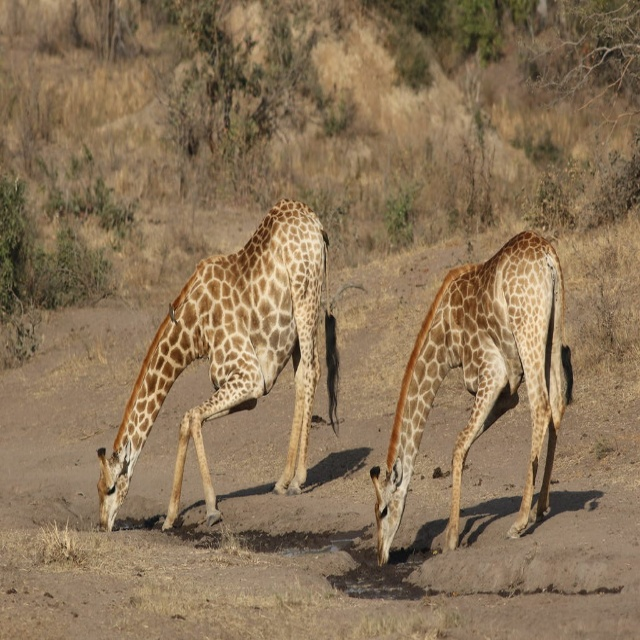Giraffe: (94, 196, 350, 538), (370, 233, 574, 566)
